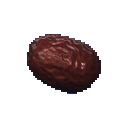gd: (20, 21, 119, 113)
